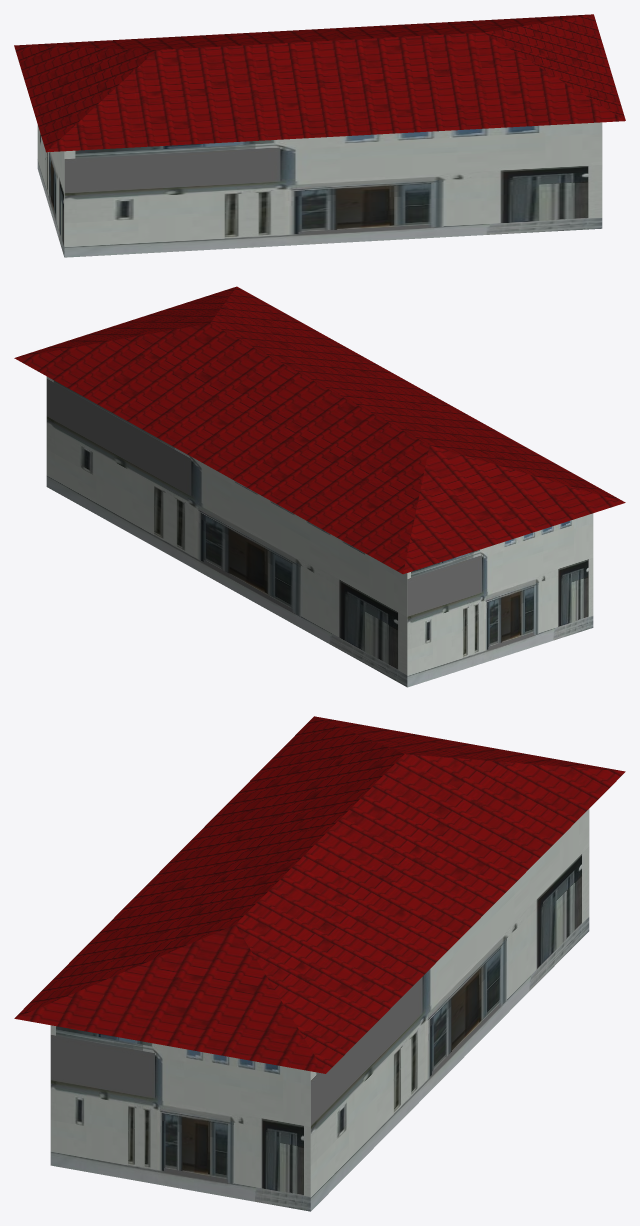
The picture shows the model from 3 angles, top to bottom: view 1: azimuth 30°, elevation 25°; view 2: azimuth 150°, elevation 25°; view 3: azimuth 270°, elevation 25°; orthographic projection. The views are drawn at different scales.
Visible parts, largest first — view 1: CityEngineMaterial_17_m, CityEngineMaterial_11_m; view 2: CityEngineMaterial_17_m, CityEngineMaterial_11_m; view 3: CityEngineMaterial_17_m, CityEngineMaterial_11_m.
Boxes of the visible parts, x1=… form: CityEngineMaterial_17_m: x1=14, y1=14, x2=625, y2=152; CityEngineMaterial_11_m: x1=37, y1=122, x2=602, y2=257; CityEngineMaterial_17_m: x1=14, y1=286, x2=625, y2=574; CityEngineMaterial_11_m: x1=46, y1=376, x2=593, y2=687; CityEngineMaterial_17_m: x1=14, y1=716, x2=625, y2=1073; CityEngineMaterial_11_m: x1=50, y1=809, x2=589, y2=1211.
Size of the model in its own units: 28.36 by 7.73 by 20.51.
